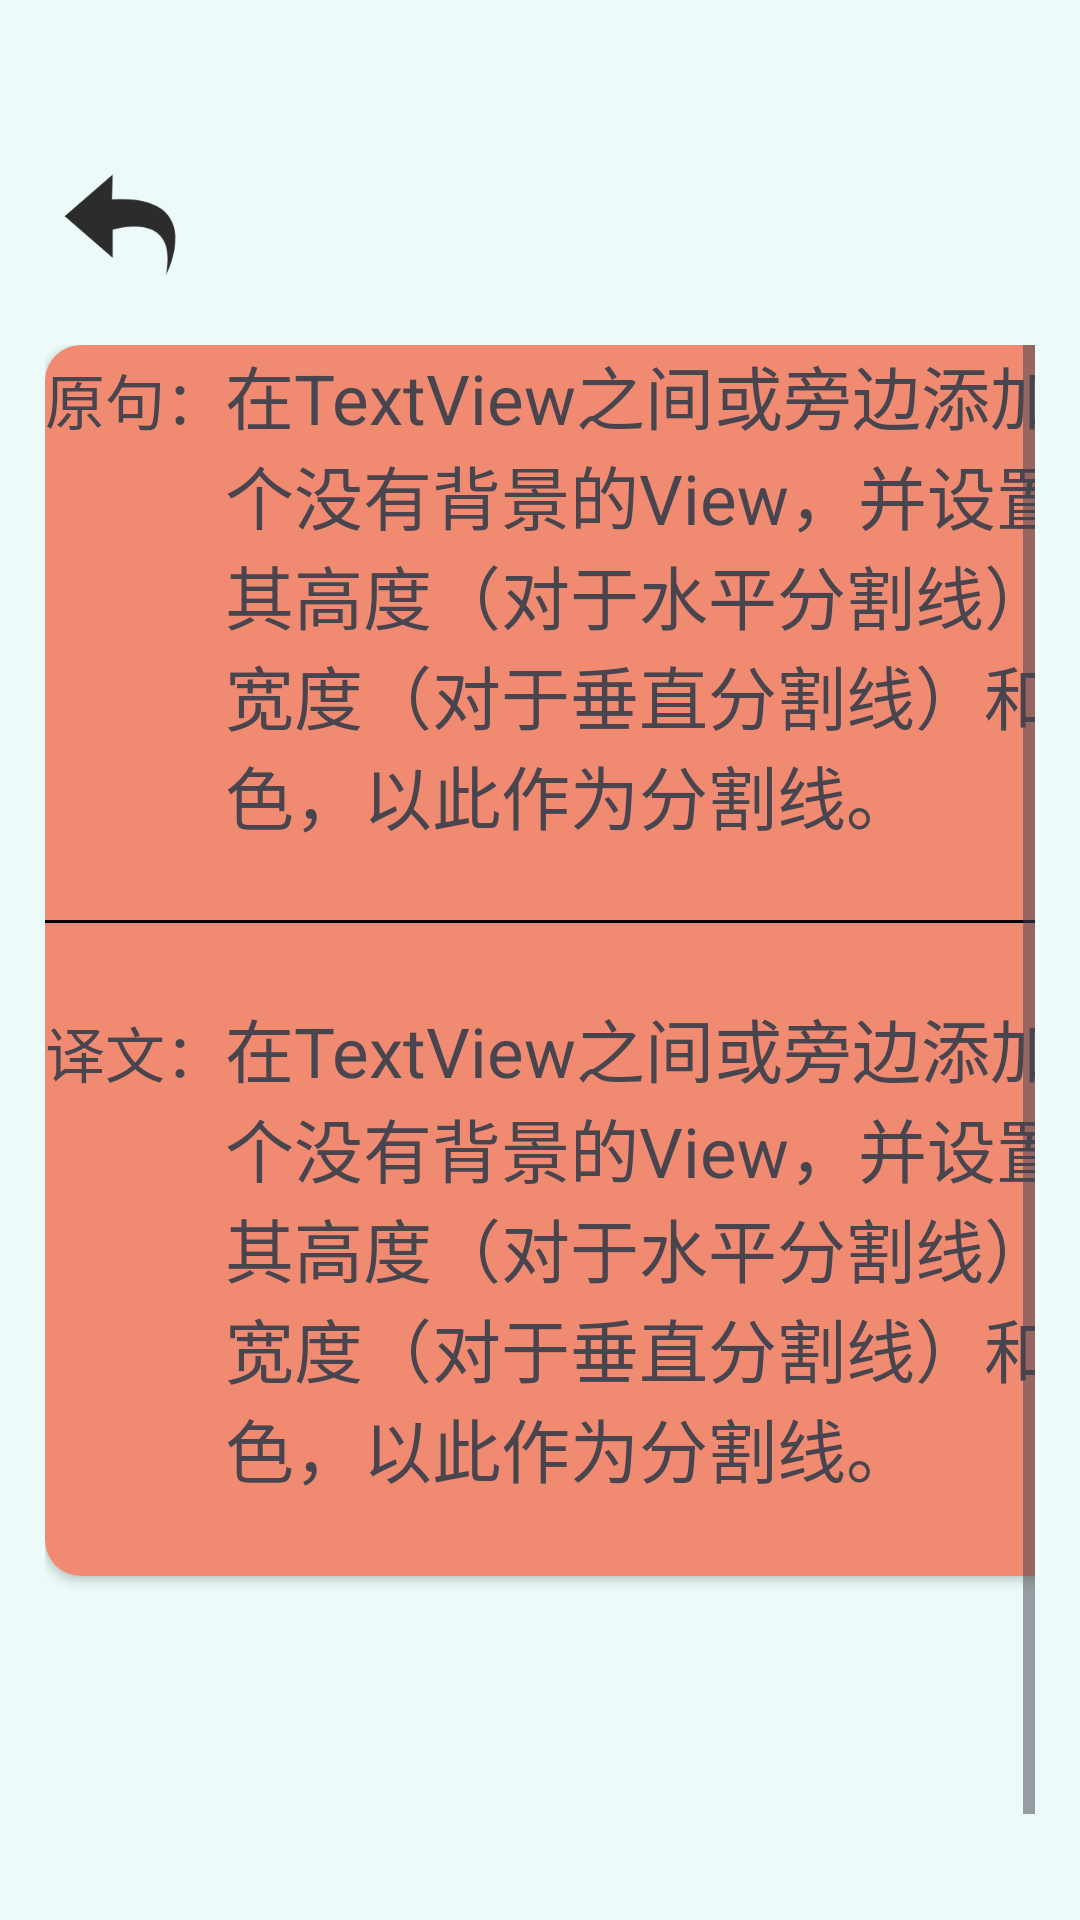

Icons on this 1080*1920 Android screen, each with the point to tap as (x=x, y=y):
back: (x=120, y=224)
